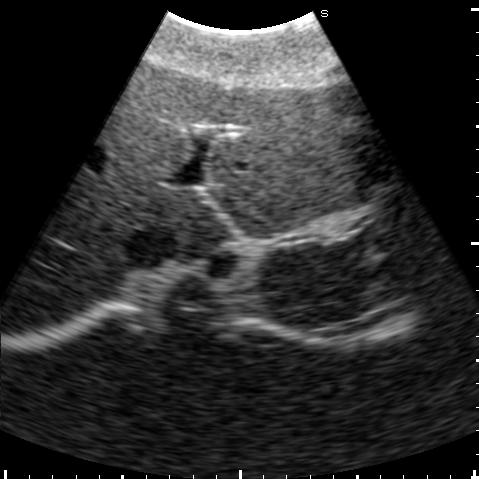IVC: (121, 223, 177, 274)
S1: (167, 193, 236, 263)
S2: (206, 160, 402, 241)
S3: (196, 77, 394, 204)
Tumor: (334, 118, 361, 137)
